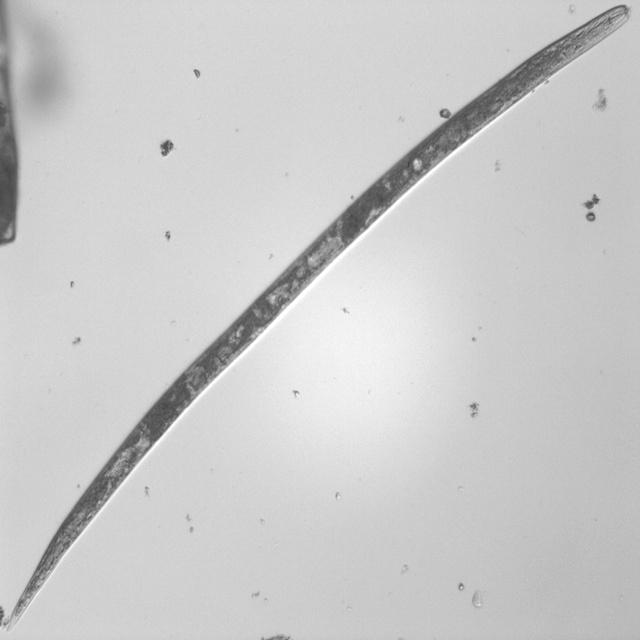Radopholus: (2, 0, 635, 634)
